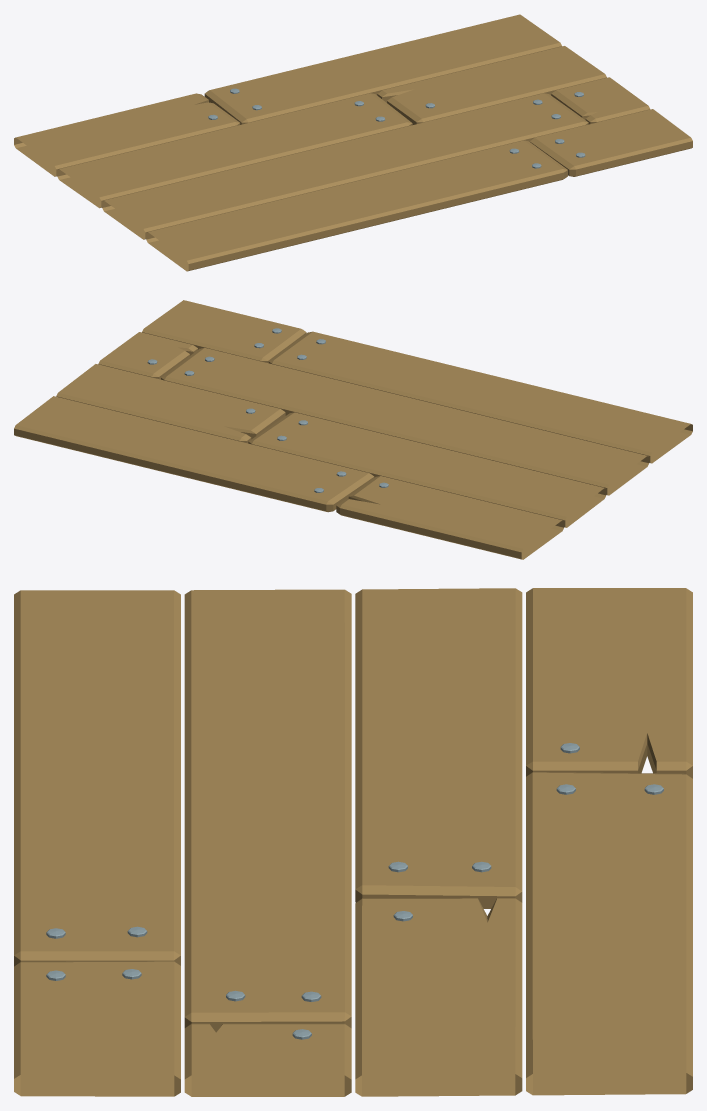
The model's file is Floor_type3_FIX.fbx.
3 renders of one model, top to bottom at view 1: azimuth 30°, elevation 25°; view 2: azimuth 150°, elevation 25°; view 3: azimuth 270°, elevation 25°, orthographic. The views are drawn at different scales.
Visible parts, largest first — view 1: plain boards.017; view 2: plain boards.017; view 3: plain boards.017.
Boxes of the visible parts, x1=… form: plain boards.017: x1=14, y1=14, x2=692, y2=271; plain boards.017: x1=14, y1=300, x2=692, y2=559; plain boards.017: x1=14, y1=588, x2=692, y2=1096.
Size of the model in its own units: 283 by 6.79 by 167.
